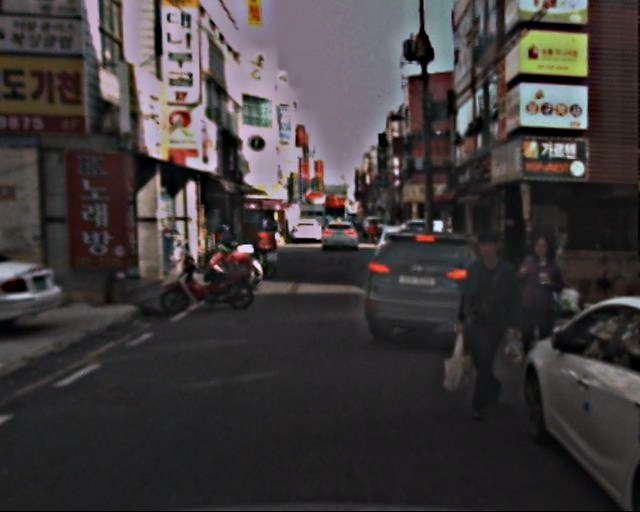person: (446, 234, 523, 421), (511, 237, 571, 383), (265, 216, 279, 251), (365, 222, 379, 245)
